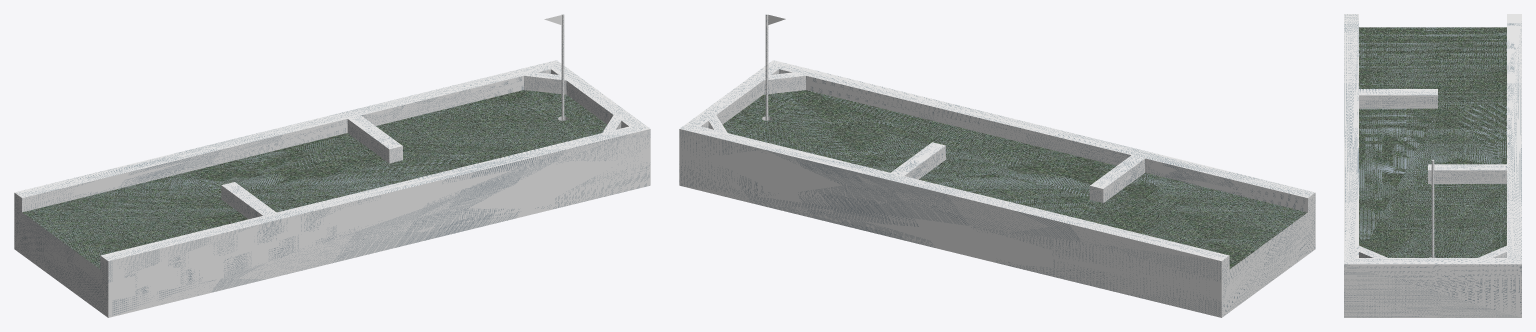
The model's file is hole1.dae.
3 views of the same model, side by side, from view 1: azimuth 30°, elevation 25°; view 2: azimuth 150°, elevation 25°; view 3: azimuth 270°, elevation 25° (orthographic). The views are drawn at different scales.
Visible parts, largest first — view 1: group_0 (×2); view 2: group_0 (×2); view 3: group_0 (×3).
Boxes of the visible parts, x1,y1,x2,y2 form: group_0 (×2): [14, 60, 650, 317]; group_0 (×2): [679, 60, 1315, 317]; group_0 (×3): [1344, 14, 1521, 317].
Size of the model in its own units: 120 by 36 by 31.
Materials: 4 (1 with a texture image).
